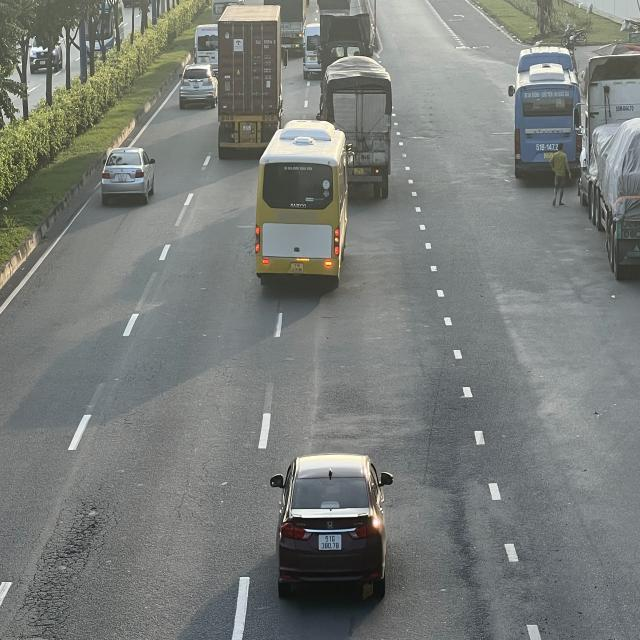car: (274, 456, 394, 604), (103, 146, 158, 200), (179, 62, 217, 106)
coach: (255, 120, 351, 285), (509, 48, 581, 183)
container: (576, 49, 638, 288), (219, 4, 284, 158)
truck: (325, 54, 394, 192)
